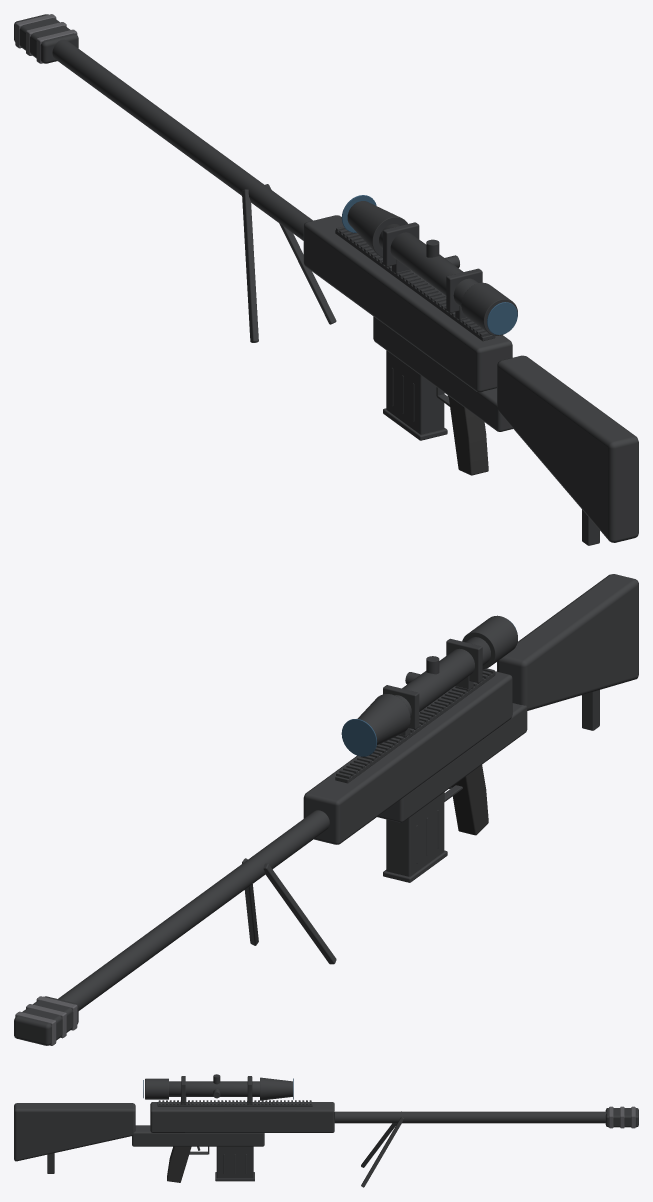
The picture shows the model from 3 angles, top to bottom: view 1: azimuth 30°, elevation 25°; view 2: azimuth 150°, elevation 25°; view 3: azimuth 270°, elevation 25°; orthographic projection. The views are drawn at different scales.
Parts seen in each view (by area): view 1: Stock, UpperReceiver, Barrel, LowerReceiver, Mag_body, ScopeTube, Grip, ScopeBell, TopRail_teeth, BipodL, MuzzleBrakeBody, ScopeEye (+3 smaller); view 2: Stock, UpperReceiver, Barrel, LowerReceiver, Mag_body, ScopeTube, Grip, MuzzleBrakeBody, ScopeBell, TopRail_teeth, ScopeEye, BipodL (+4 smaller); view 3: Stock, UpperReceiver, Barrel, LowerReceiver, ScopeTube, Mag_body, ScopeBell, Grip, TopRail, ScopeEye, TopRail_teeth, MuzzleBrakeBody (+2 smaller).
Boxes of the visible parts, x1,y1,x2,y2 form: Stock: (497, 355, 638, 542); UpperReceiver: (303, 215, 512, 392); Barrel: (52, 39, 312, 240); LowerReceiver: (373, 316, 512, 431); Mag_body: (386, 350, 444, 434); ScopeTube: (379, 224, 478, 306); Grip: (448, 396, 488, 475); ScopeBell: (347, 201, 407, 256); TopRail_teeth: (336, 226, 490, 336); BipodL: (242, 189, 258, 342); MuzzleBrakeBody: (14, 14, 78, 63); ScopeEye: (461, 282, 517, 335); Stock: (497, 574, 638, 710); UpperReceiver: (303, 671, 512, 844); Barrel: (58, 810, 329, 1010); LowerReceiver: (377, 703, 527, 822); Mag_body: (386, 792, 444, 876); ScopeTube: (395, 637, 490, 716); Grip: (451, 765, 488, 835); MuzzleBrakeBody: (14, 996, 78, 1045); ScopeBell: (357, 694, 410, 745); TopRail_teeth: (336, 668, 494, 778); ScopeEye: (462, 615, 517, 668); BipodL: (263, 863, 336, 964); Stock: (14, 1103, 135, 1161); UpperReceiver: (150, 1102, 334, 1132); Barrel: (334, 1111, 606, 1123); LowerReceiver: (132, 1125, 264, 1146); ScopeTube: (169, 1081, 259, 1096); Mag_body: (216, 1146, 253, 1178); ScopeBell: (260, 1077, 292, 1100); Grip: (167, 1146, 191, 1182); TopRail: (157, 1102, 312, 1106); ScopeEye: (145, 1078, 168, 1099); TopRail_teeth: (158, 1100, 311, 1104); MuzzleBrakeBody: (605, 1108, 638, 1127).
Size of the model in its own units: 0.1389 by 0.3146 by 1.69.
